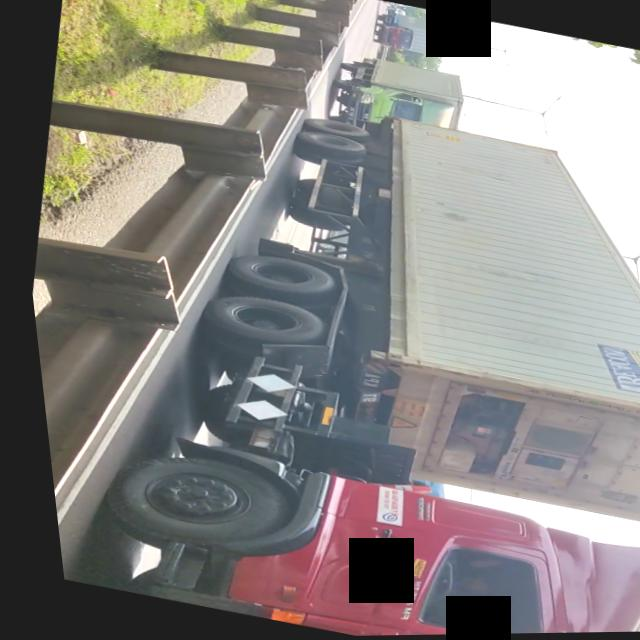Golongan V: (46, 67, 640, 640)
